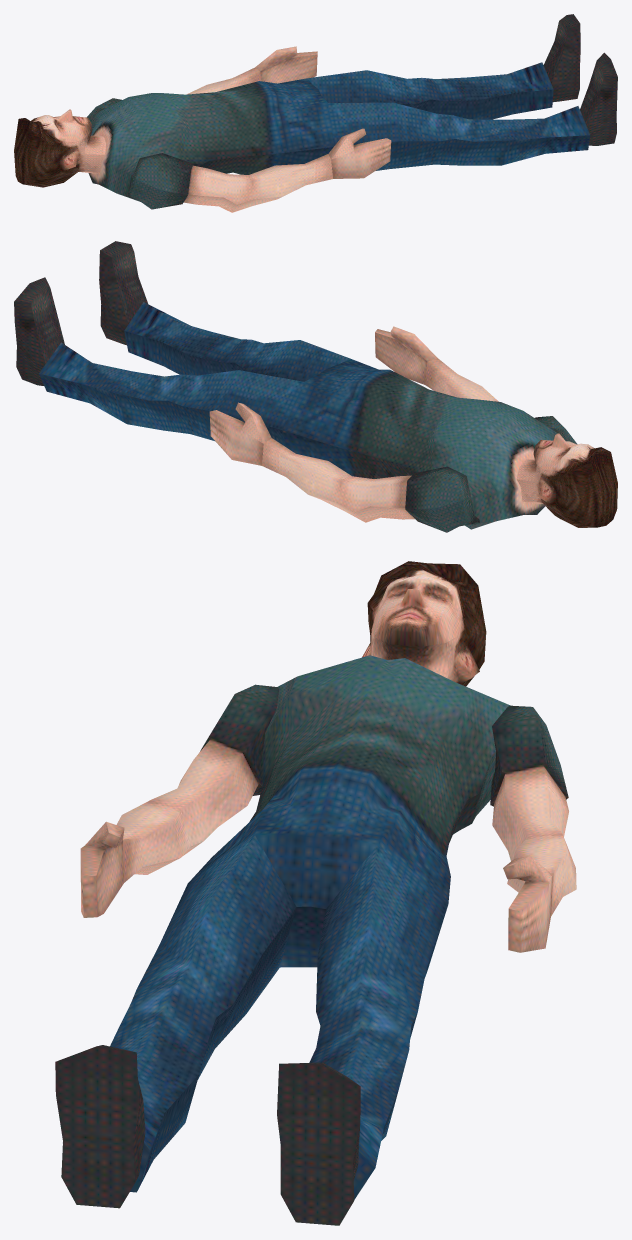
The model's file is dummy.glb.
3 renders of one model, top to bottom at view 1: azimuth 30°, elevation 25°; view 2: azimuth 150°, elevation 25°; view 3: azimuth 270°, elevation 25°, orthographic. The views are drawn at different scales.
Parts seen in each view (by area): view 1: male_player_hero_0; view 2: male_player_hero_0; view 3: male_player_hero_0.
Part boxes in pixels (x1,y1,x2,y2): male_player_hero_0: (14,14,617,212); male_player_hero_0: (14,241,617,532); male_player_hero_0: (55,561,576,1225).
Bounding box in the file's own units: 1.21 × 0.2017 × 0.513.
Materials: 1 (1 with a texture image).
